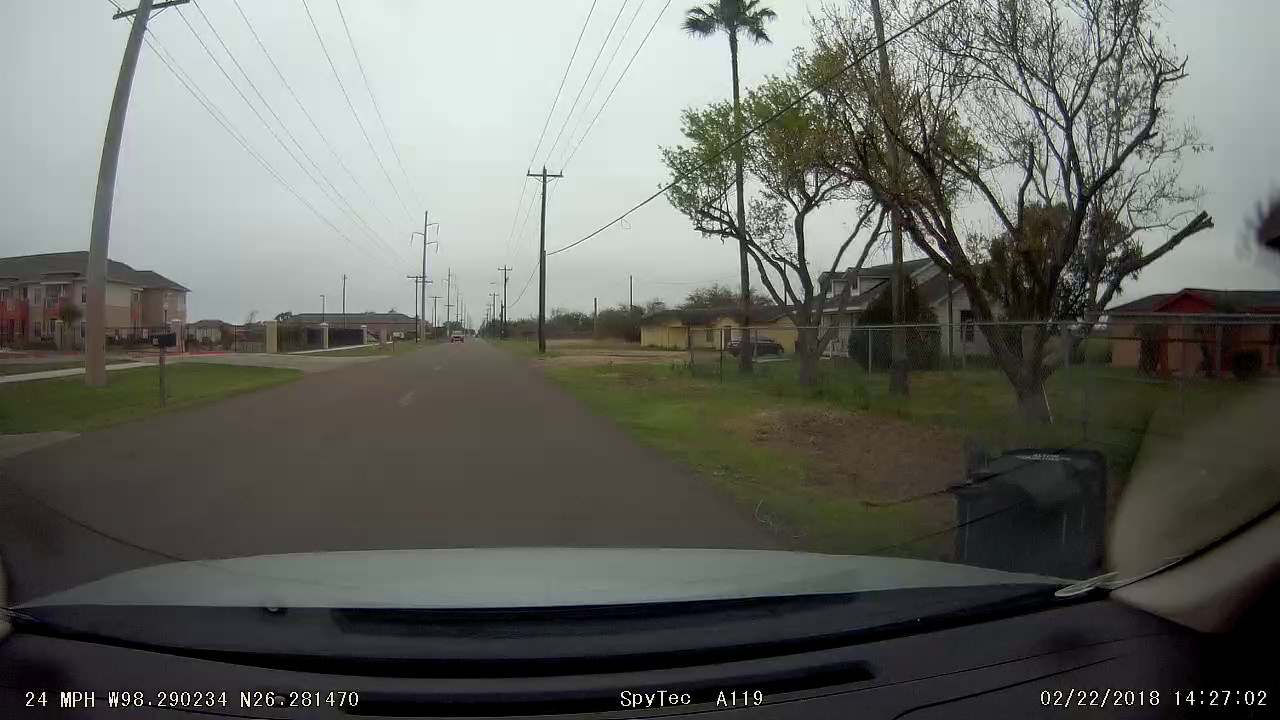blurredLine: (392, 378, 427, 411)
